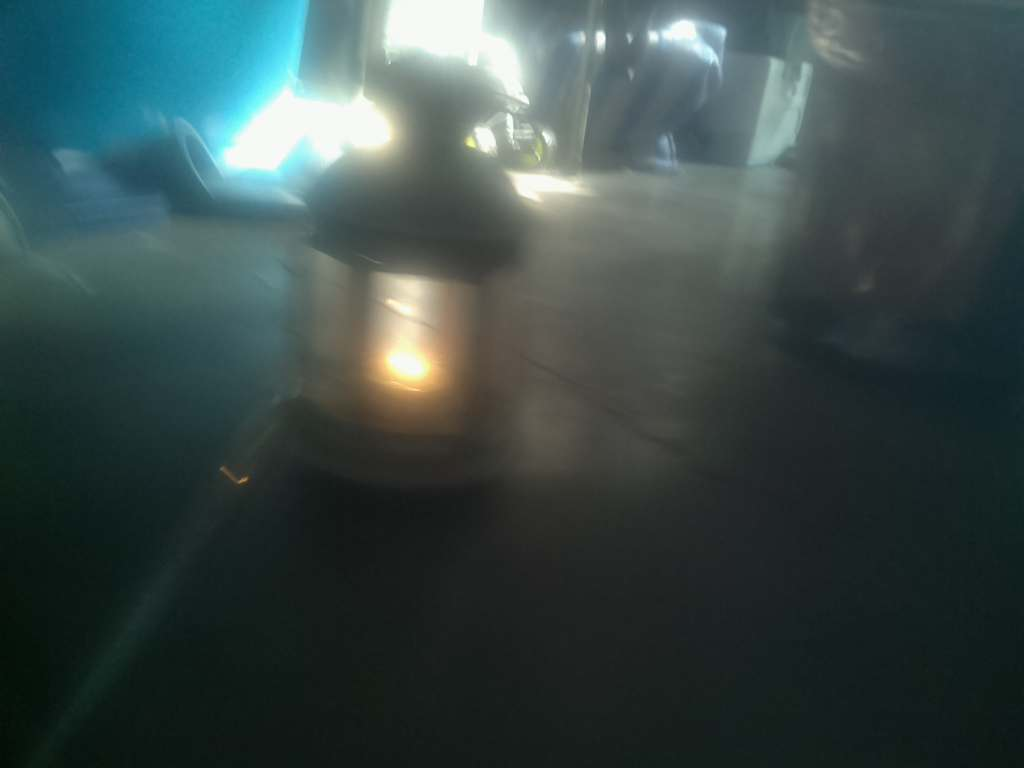fire: (362, 322, 450, 399)
